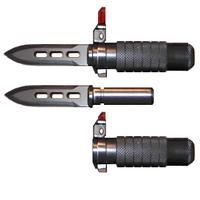knife: (3, 23, 194, 76), (1, 80, 158, 109)
